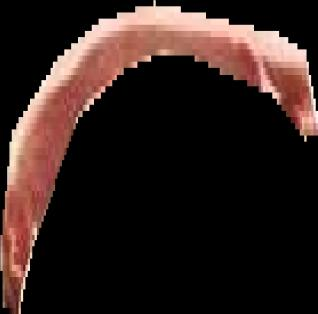pork: (0, 0, 318, 314)
